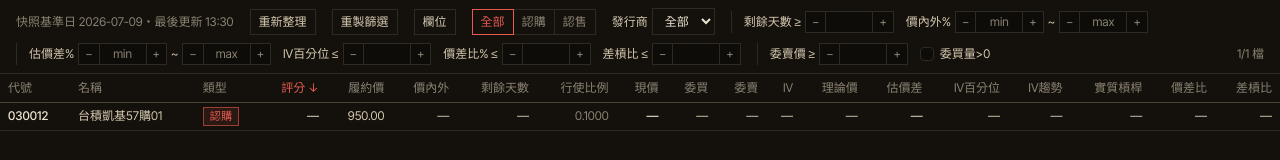
WarrantSelector 篩選列改造(mod warrant-ux-feedback item 4) › number input 換 NumberField:帶 name 屬性 + stepper 按鈕可調值
The image size is (1280, 160).
expect the number of rows with test id "warrant-row" is 1: met, box top-left (0, 102), bottom-right (1279, 130)
Click the button named "剩餘天數下限 增加".
click(883, 22)  # box top-left (873, 12), bottom-right (893, 32)
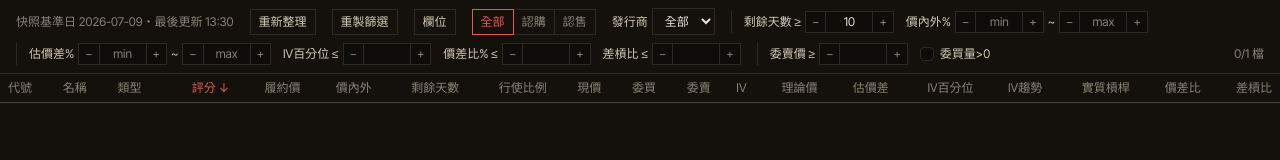
expect the number field named "剩餘天數下限" holds "10": met, box top-left (825, 12), bottom-right (873, 32)
